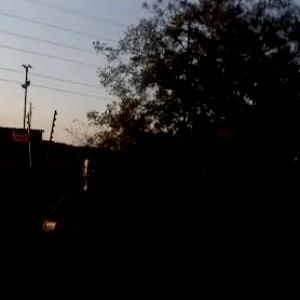follow: (36, 145, 127, 299)
